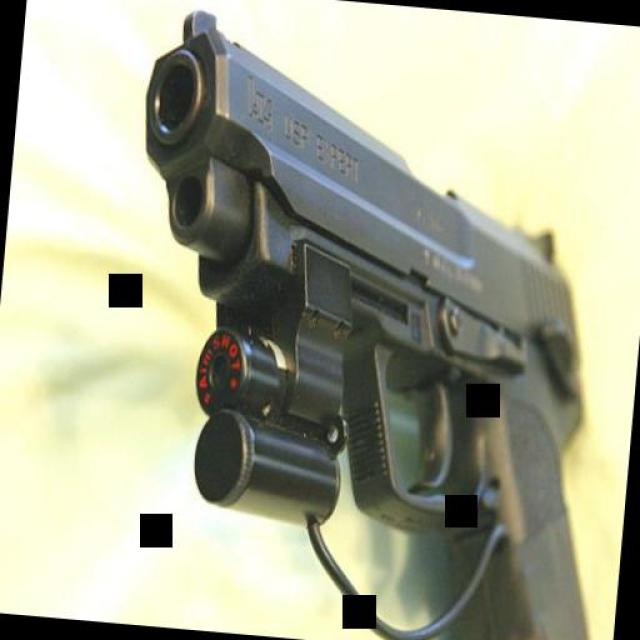gun: (99, 2, 640, 640)
